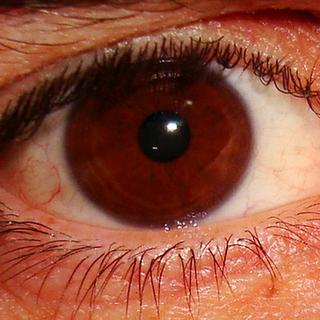pupil: (140, 113, 189, 162)
